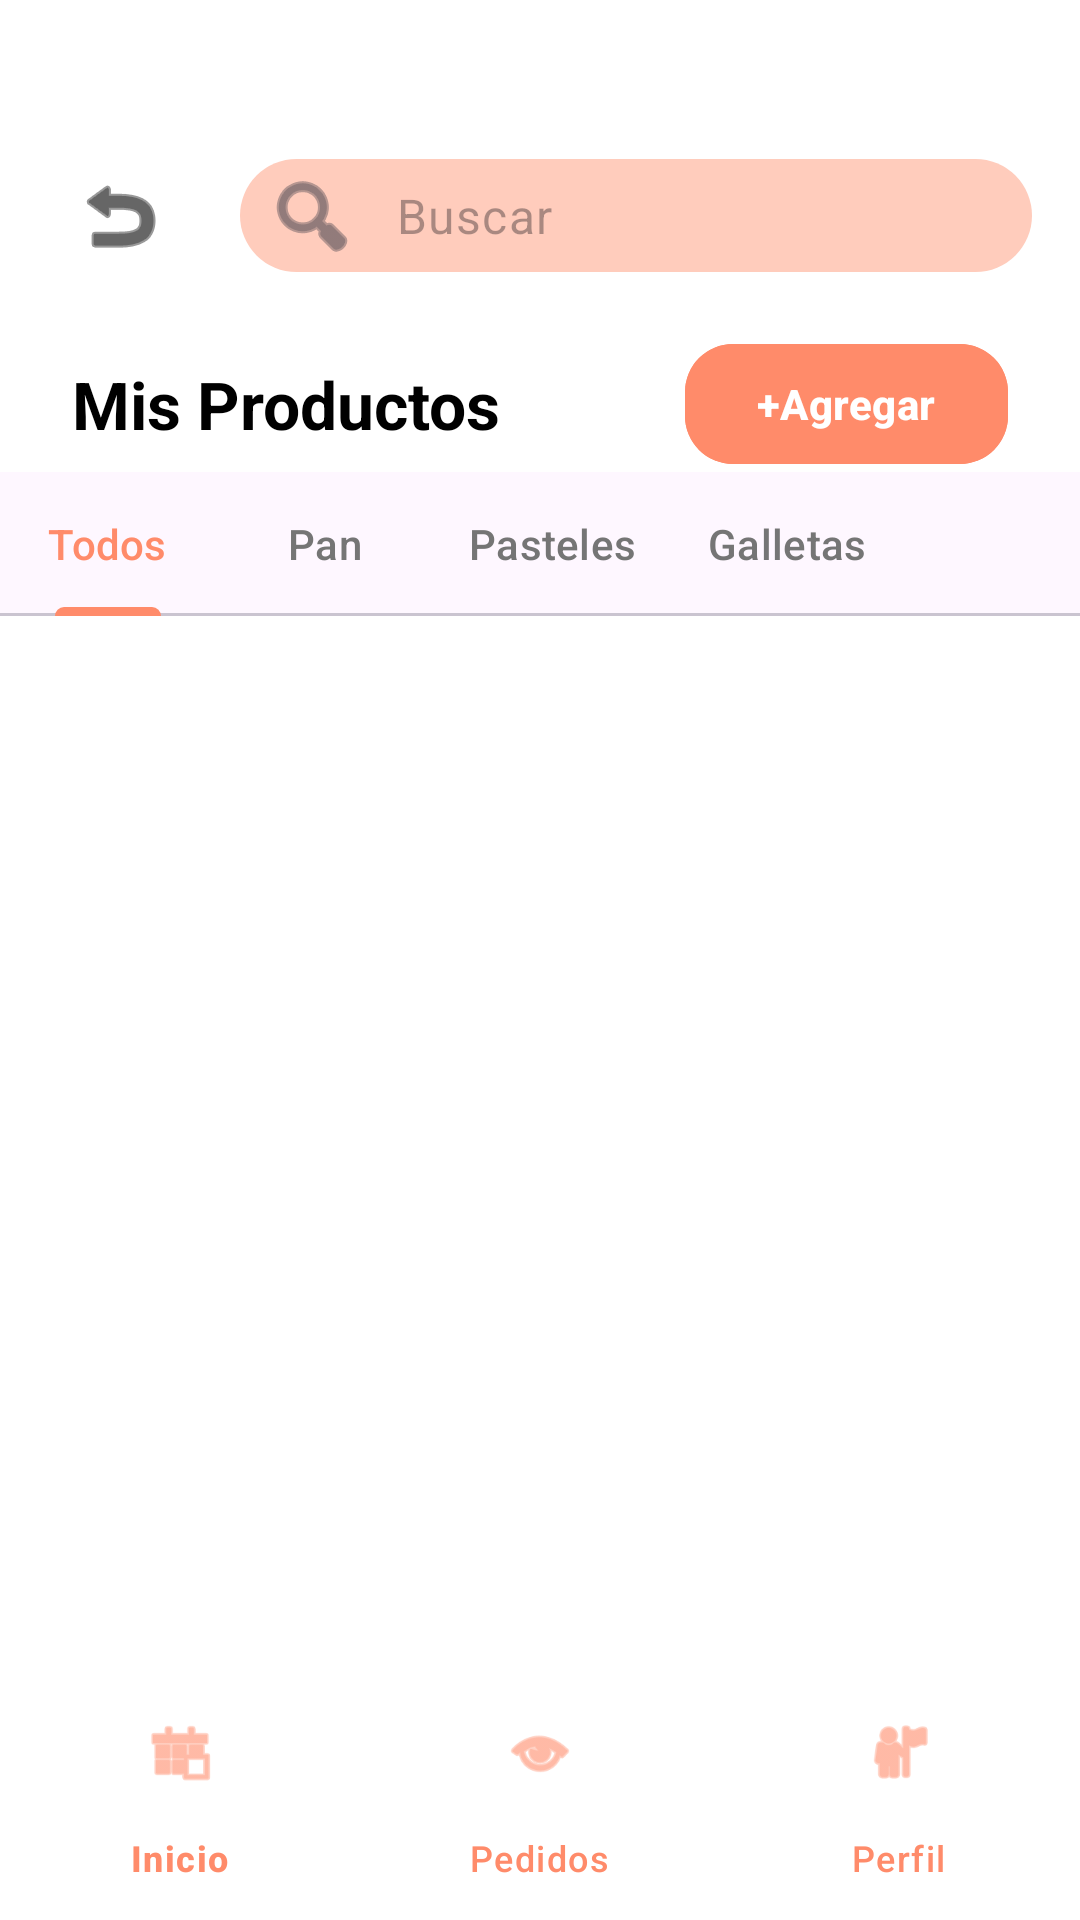

Named icons in this screenshot (1080px×1920px) and their centers, (x=x, y=y):
revert: (x=121, y=216)
